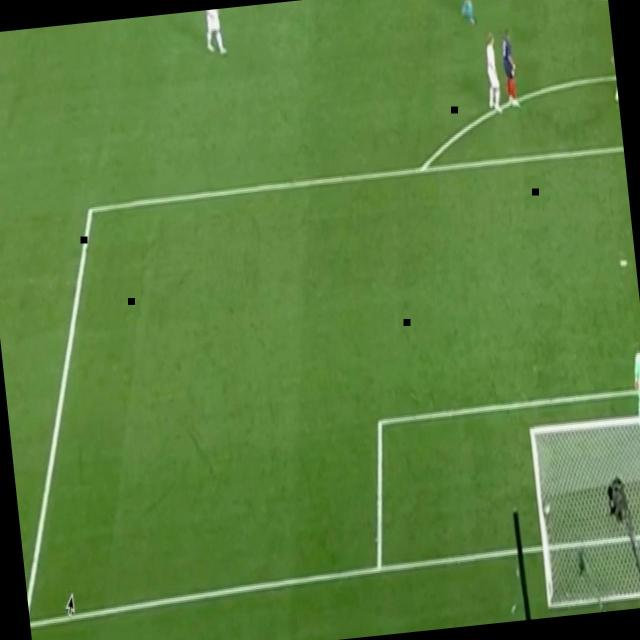player-white: (480, 28, 506, 119), (498, 24, 522, 109), (203, 8, 230, 60), (604, 18, 619, 106), (628, 334, 640, 432), (457, 0, 483, 28)
